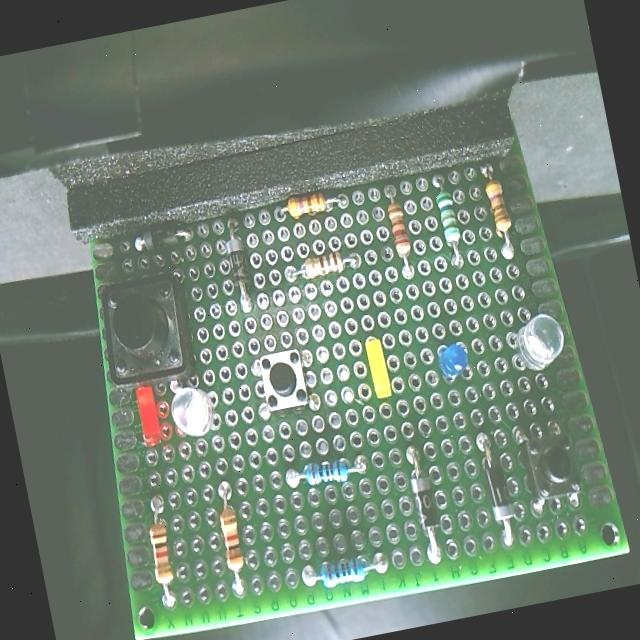diode: (394, 434, 454, 569), (464, 419, 524, 552), (218, 204, 264, 320), (128, 213, 200, 256)
led: (499, 308, 572, 376), (166, 380, 226, 442), (357, 328, 398, 403), (428, 332, 478, 390), (130, 381, 170, 451)
resistor: (134, 486, 186, 614), (207, 472, 256, 602), (296, 538, 394, 600), (473, 154, 524, 262), (423, 162, 472, 272), (374, 174, 422, 284), (281, 445, 374, 495), (276, 242, 367, 288), (267, 178, 352, 226)
switch: (90, 262, 204, 400), (506, 416, 584, 518), (244, 340, 324, 420)
